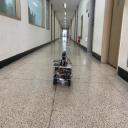cart: (53, 62, 72, 86)
